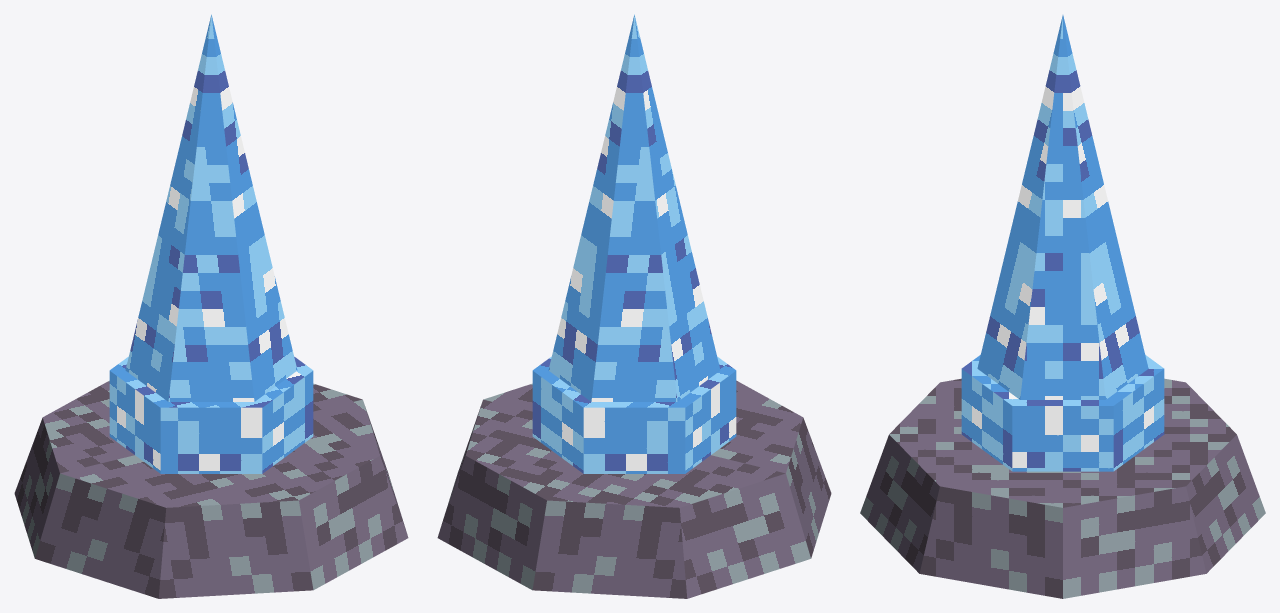
Rendered from r05_cristal.glb.
The picture shows the model from 3 angles, left to right: view 1: azimuth 30°, elevation 25°; view 2: azimuth 150°, elevation 25°; view 3: azimuth 270°, elevation 25°; orthographic projection.
Parts seen in each view (by area): view 1: r05_cristal; view 2: r05_cristal; view 3: r05_cristal.
Boxes of the visible parts, <box> form: r05_cristal: <box>14,14,408,598</box>; r05_cristal: <box>437,14,831,598</box>; r05_cristal: <box>860,15,1265,598</box>.
Bounding box in the file's own units: 1.4 × 1.9 × 1.4.
Materials: 2 (2 with a texture image).
